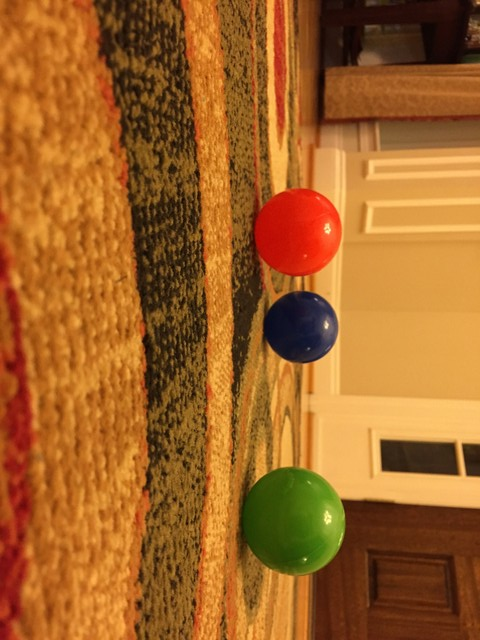Ball: (240, 467, 345, 573)
